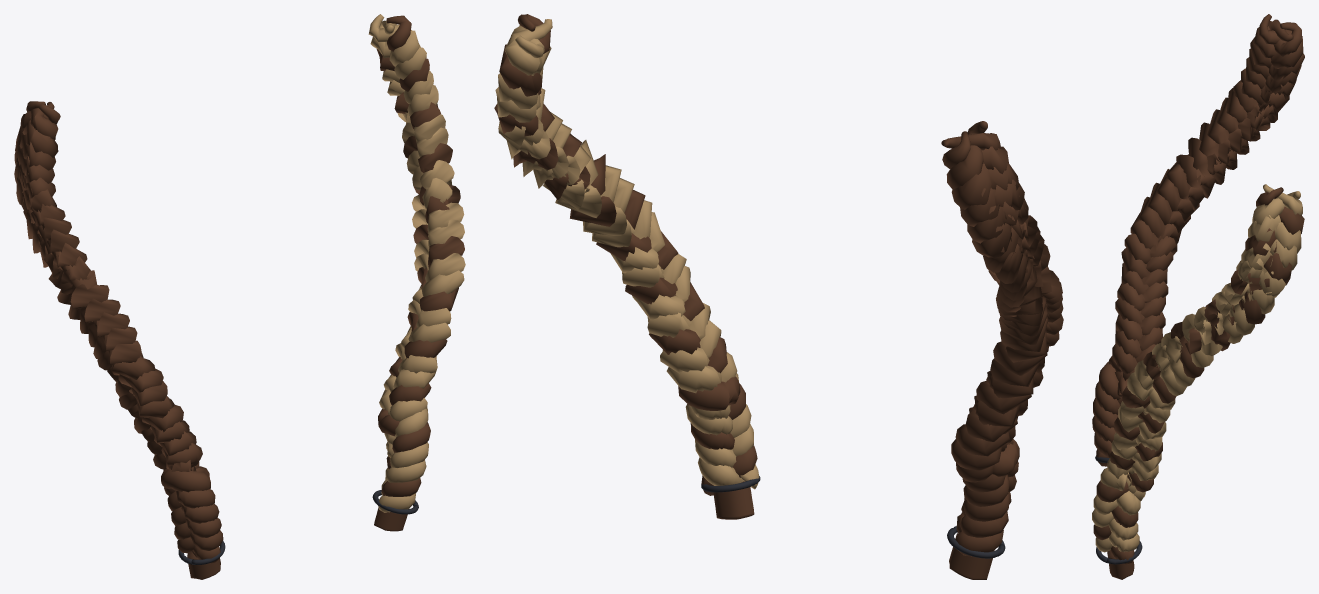
File: Highlights-8f2accefc650251-hair.glb
The picture shows the model from 3 angles, left to right: view 1: azimuth 30°, elevation 25°; view 2: azimuth 150°, elevation 25°; view 3: azimuth 270°, elevation 25°; orthographic projection. The views are drawn at different scales.
Visible parts, largest first — view 1: 226 hairLengths / Hair / chestnut226, 226 hairLengths / Hair / ties226; view 2: 226 hairLengths / Hair / chestnut226, 226 hairLengths / Hair / ties226; view 3: 226 hairLengths / Hair / chestnut226, 226 hairLengths / Hair / ties226.
Boxes of the visible parts, box(x1,y1,x2,y2) form: 226 hairLengths / Hair / chestnut226: box(14, 14, 465, 579); 226 hairLengths / Hair / ties226: box(178, 490, 418, 564); 226 hairLengths / Hair / chestnut226: box(494, 14, 1063, 579); 226 hairLengths / Hair / ties226: box(701, 476, 1005, 558); 226 hairLengths / Hair / chestnut226: box(1092, 14, 1304, 579); 226 hairLengths / Hair / ties226: box(1095, 455, 1142, 564).
Size of the model in its own units: 1.03 by 1.05 by 0.4743.
